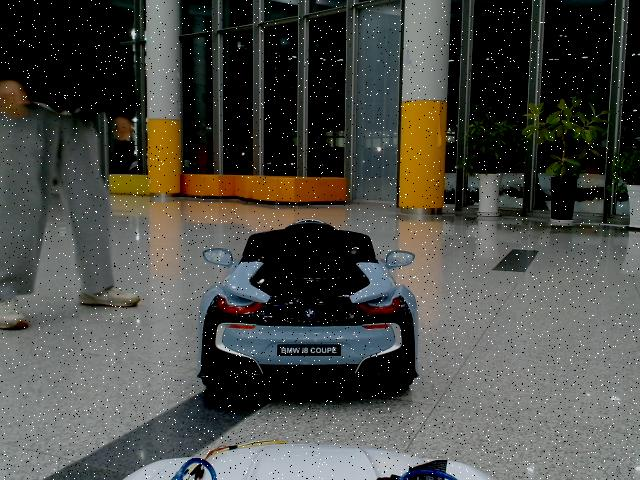car: (197, 220, 421, 393)
